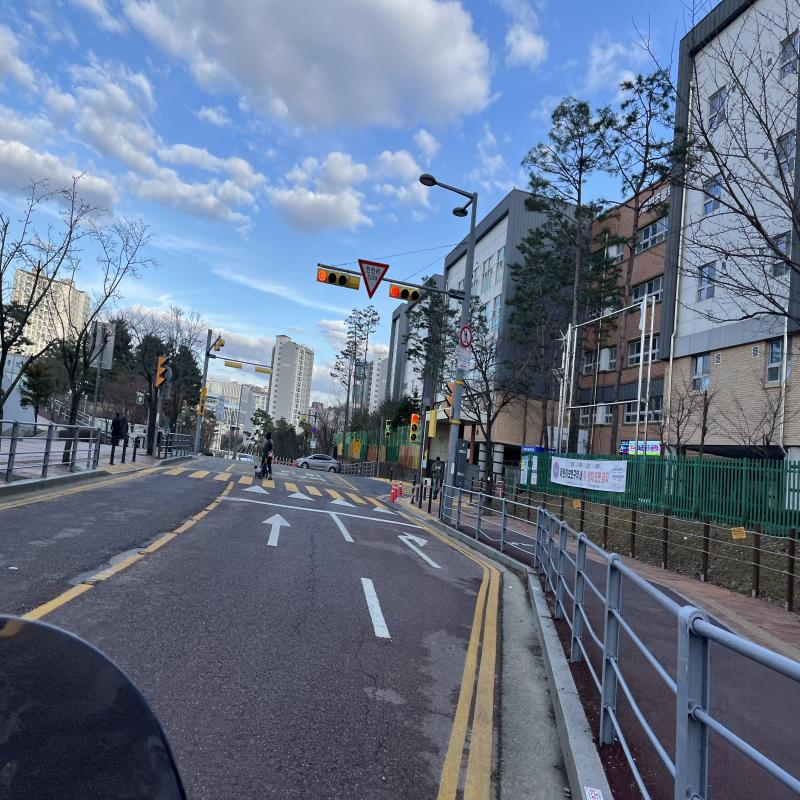red: (317, 268, 328, 283), (390, 284, 401, 299), (412, 414, 419, 423)
